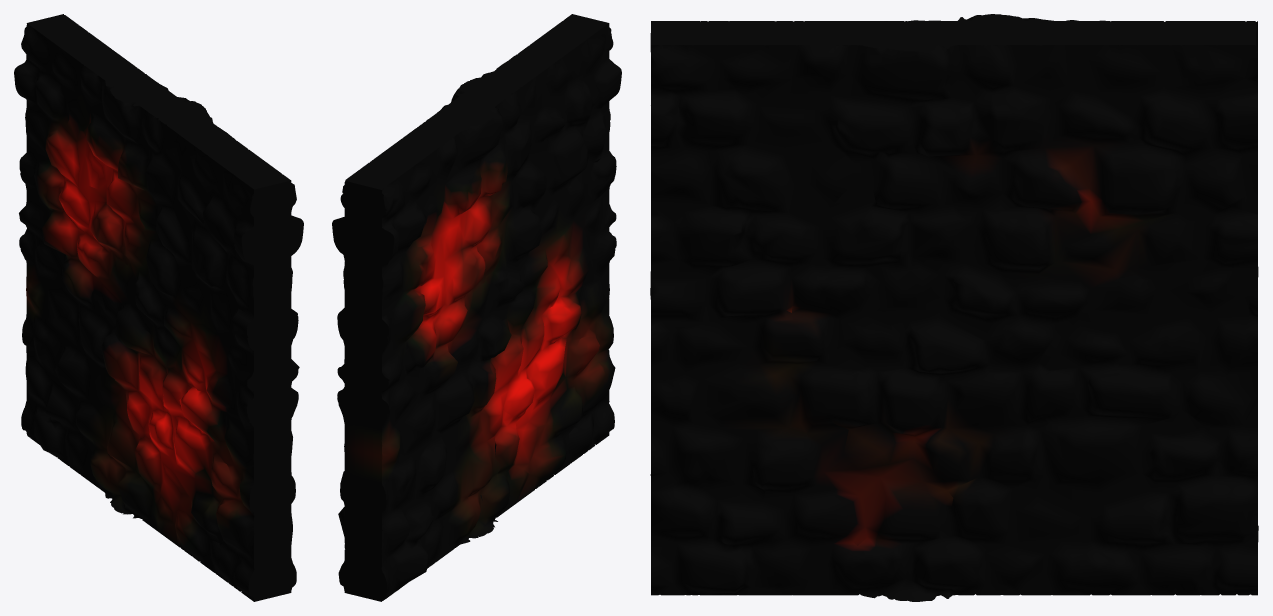
Rendered from SM_CastleTower_Wall_A_01.fbx.
3 renders of one model, left to right at view 1: azimuth 30°, elevation 25°; view 2: azimuth 150°, elevation 25°; view 3: azimuth 270°, elevation 25°, orthographic. The views are drawn at different scales.
Parts seen in each view (by area): view 1: SM_CastleTower_Wall_A_01_LOD0; view 2: SM_CastleTower_Wall_A_01_LOD0; view 3: SM_CastleTower_Wall_A_01_LOD0.
Part boxes in pixels (x1,y1,x2,y2): SM_CastleTower_Wall_A_01_LOD0: (14, 14, 303, 601); SM_CastleTower_Wall_A_01_LOD0: (332, 14, 621, 601); SM_CastleTower_Wall_A_01_LOD0: (650, 14, 1258, 601).
Bounding box in the file's own units: 68.02 × 401 × 400.
